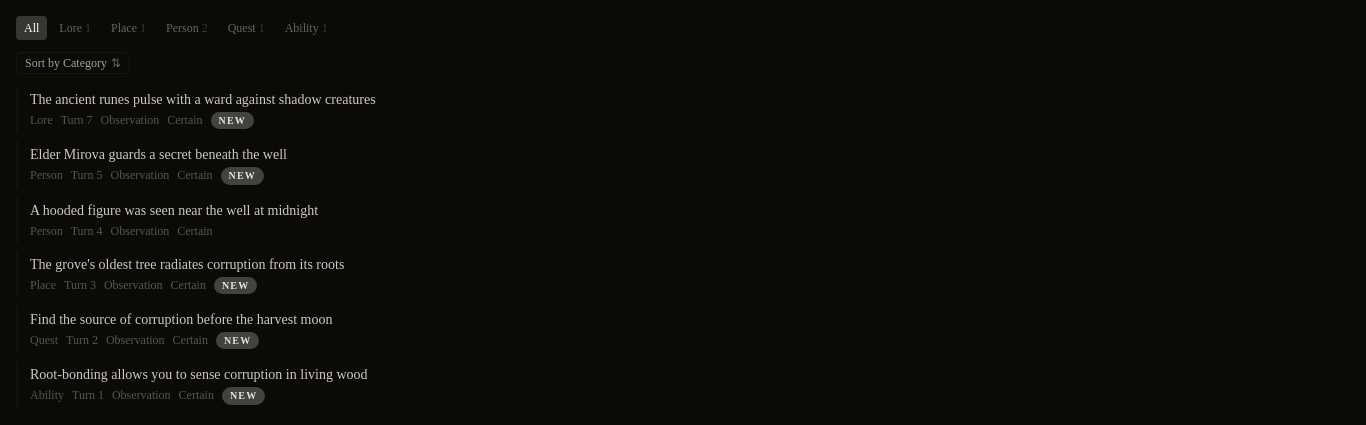
it: AC-2: Category filtering › returns to all entries when All tab clicked after filtering
Click the tab "Lore 1" at (75, 28), box [51,16,99,40]
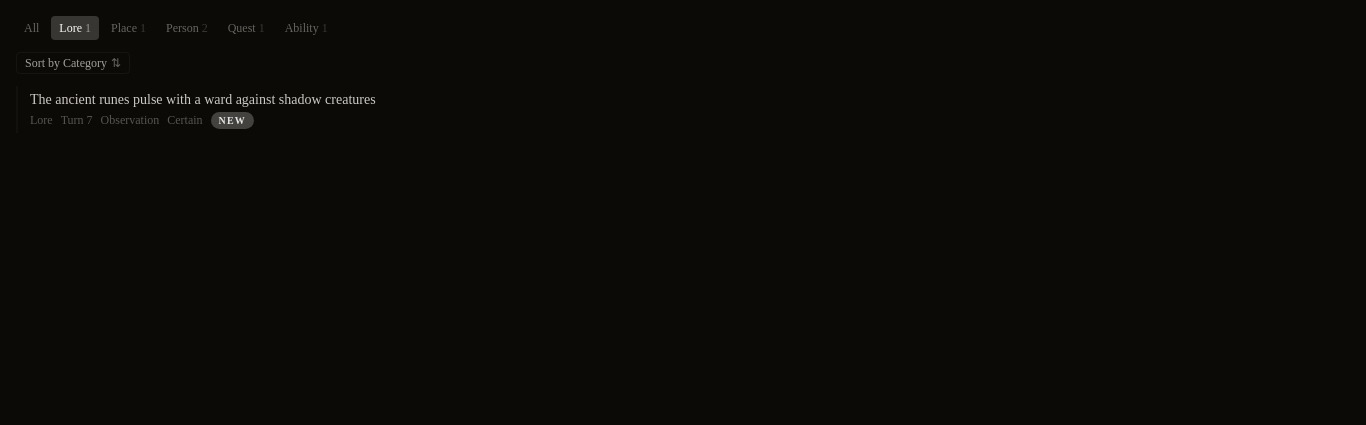
Click the tab "All" at (32, 28), box [16,16,47,40]
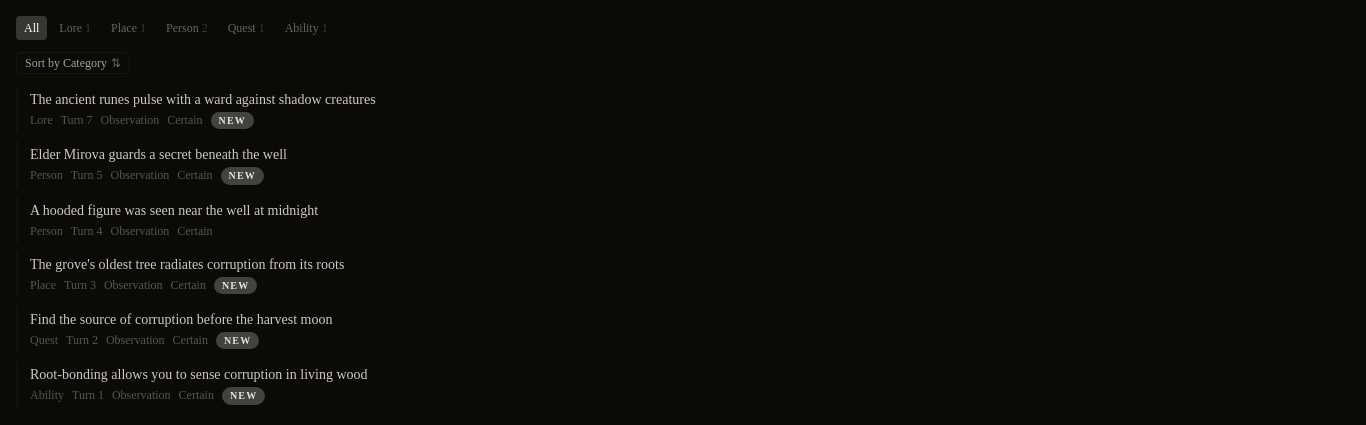
Expected: the number of elements with test id "journal-entry" is 6, [16,86,1350,133]; [16,141,1350,189]; [16,197,1350,243]; [16,251,1350,298]; [16,306,1350,353]; [16,361,1350,409]
